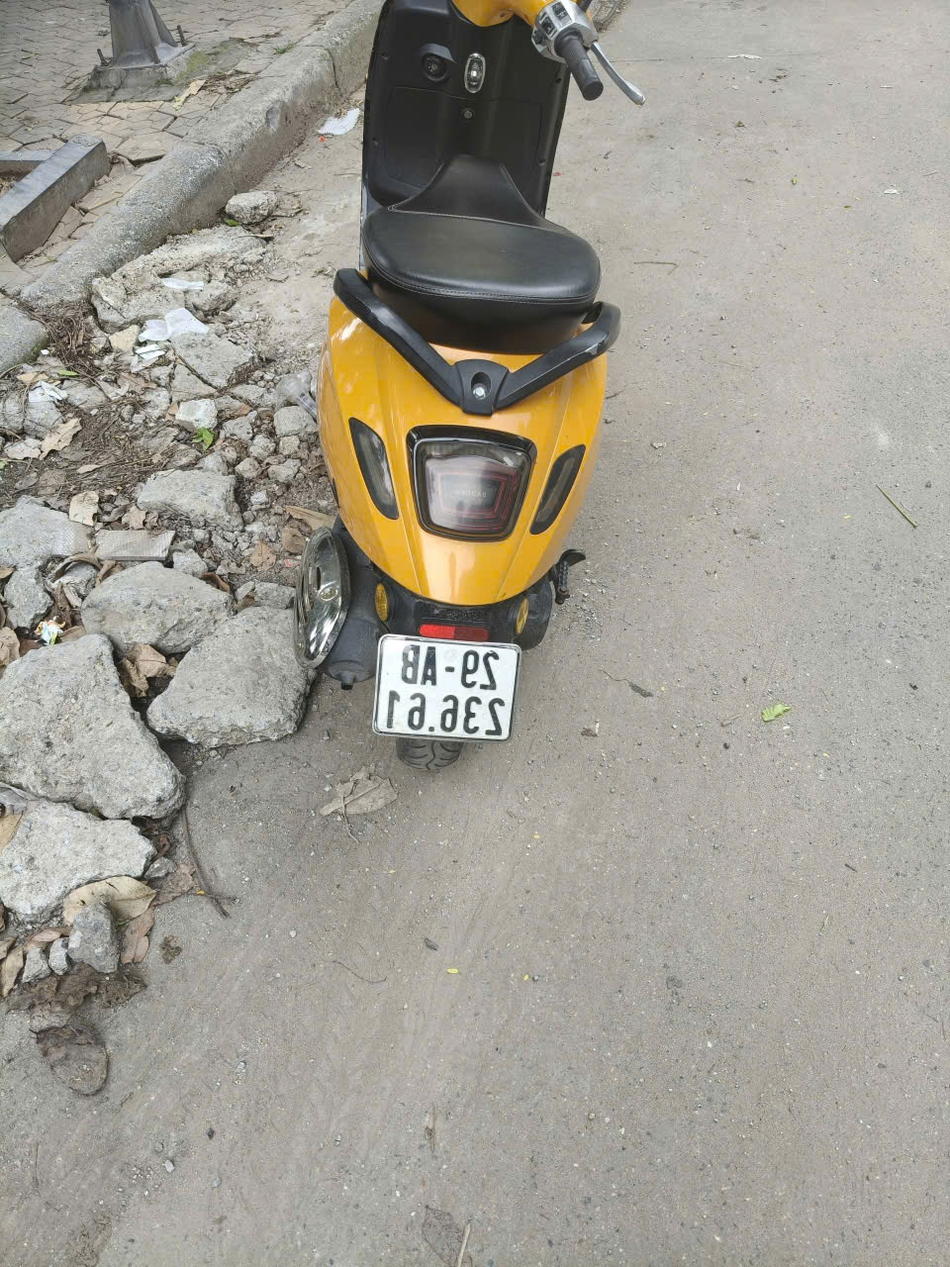plate: (410, 425, 535, 451)
